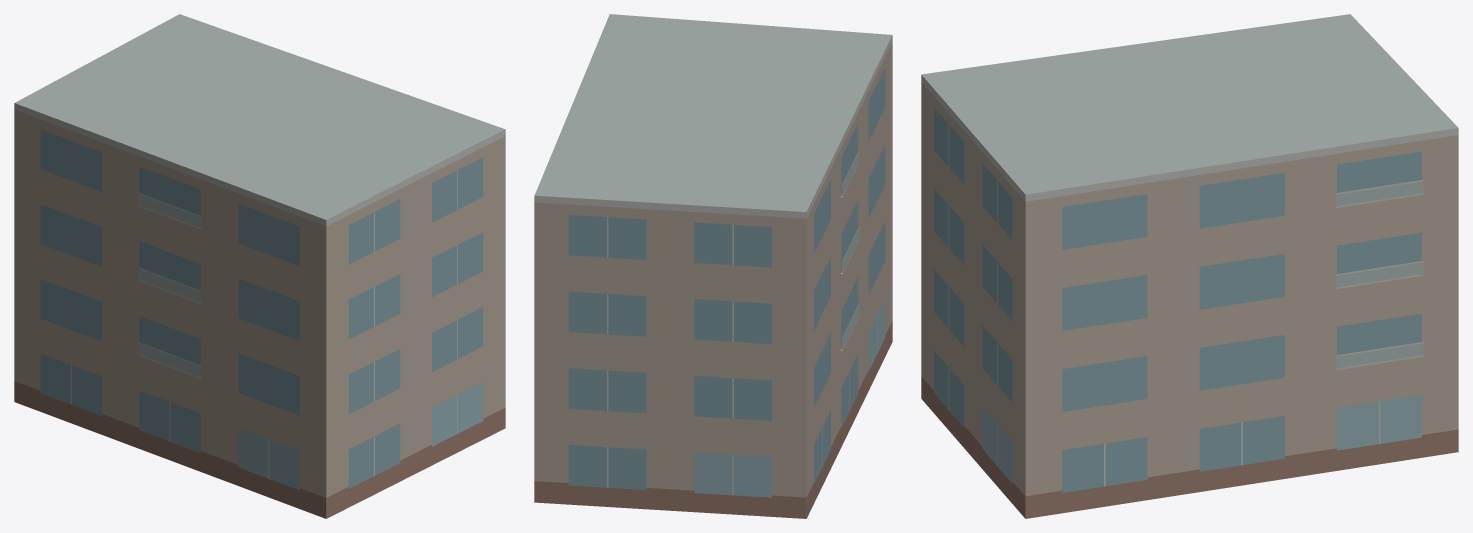
Rendered from survey-upis-32628430.glb.
3 renders of one model, left to right at view 1: azimuth 30°, elevation 25°; view 2: azimuth 150°, elevation 25°; view 3: azimuth 270°, elevation 25°, orthographic. The views are drawn at different scales.
Visible parts, largest first — view 1: survey-upis-32628430.tmp; view 2: survey-upis-32628430.tmp; view 3: survey-upis-32628430.tmp.
Part boxes in pixels (left/top/right/bottom): survey-upis-32628430.tmp: left=14, top=14, right=505, bottom=518; survey-upis-32628430.tmp: left=534, top=14, right=892, bottom=518; survey-upis-32628430.tmp: left=921, top=14, right=1458, bottom=518.
Size of the model in its own units: 13.4 by 11.2 by 16.84.
